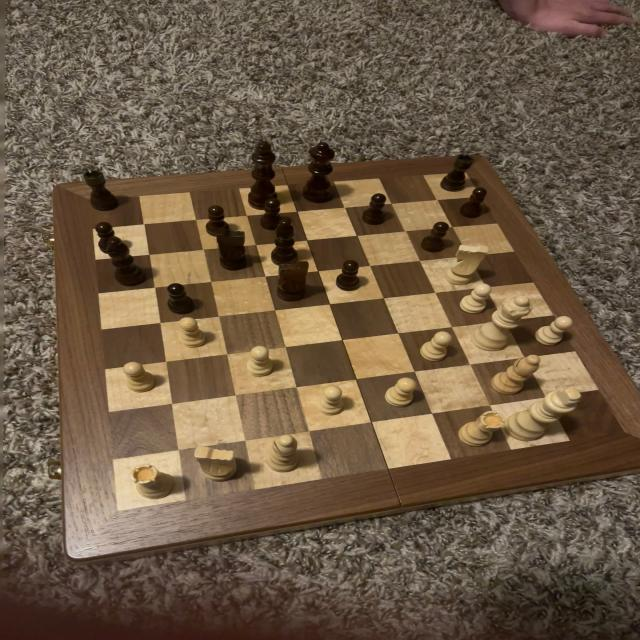bishop: (100, 234, 151, 292), (266, 211, 306, 268)
black-bishop: (245, 138, 282, 212)
black-king: (273, 258, 315, 304), (212, 229, 252, 274)
black-knight: (418, 219, 457, 257), (254, 193, 290, 231), (330, 258, 367, 293), (165, 280, 199, 318), (94, 218, 128, 255), (455, 186, 493, 218), (200, 202, 233, 238), (358, 194, 392, 226)
black-pawn: (295, 138, 339, 210)
black-queen: (79, 166, 120, 214), (436, 150, 475, 197)
black-rook: (482, 353, 546, 398), (262, 432, 300, 475)
white-bishop: (500, 386, 586, 445)
white-king: (186, 442, 244, 486), (447, 243, 491, 286)
white-knight: (312, 382, 354, 419), (414, 327, 456, 363), (383, 376, 425, 410), (175, 312, 211, 351), (458, 280, 496, 316), (242, 344, 279, 380), (534, 316, 574, 348), (122, 361, 158, 393)
white-pawn: (468, 293, 534, 358)
white-queen: (452, 408, 508, 451), (129, 461, 180, 502)
